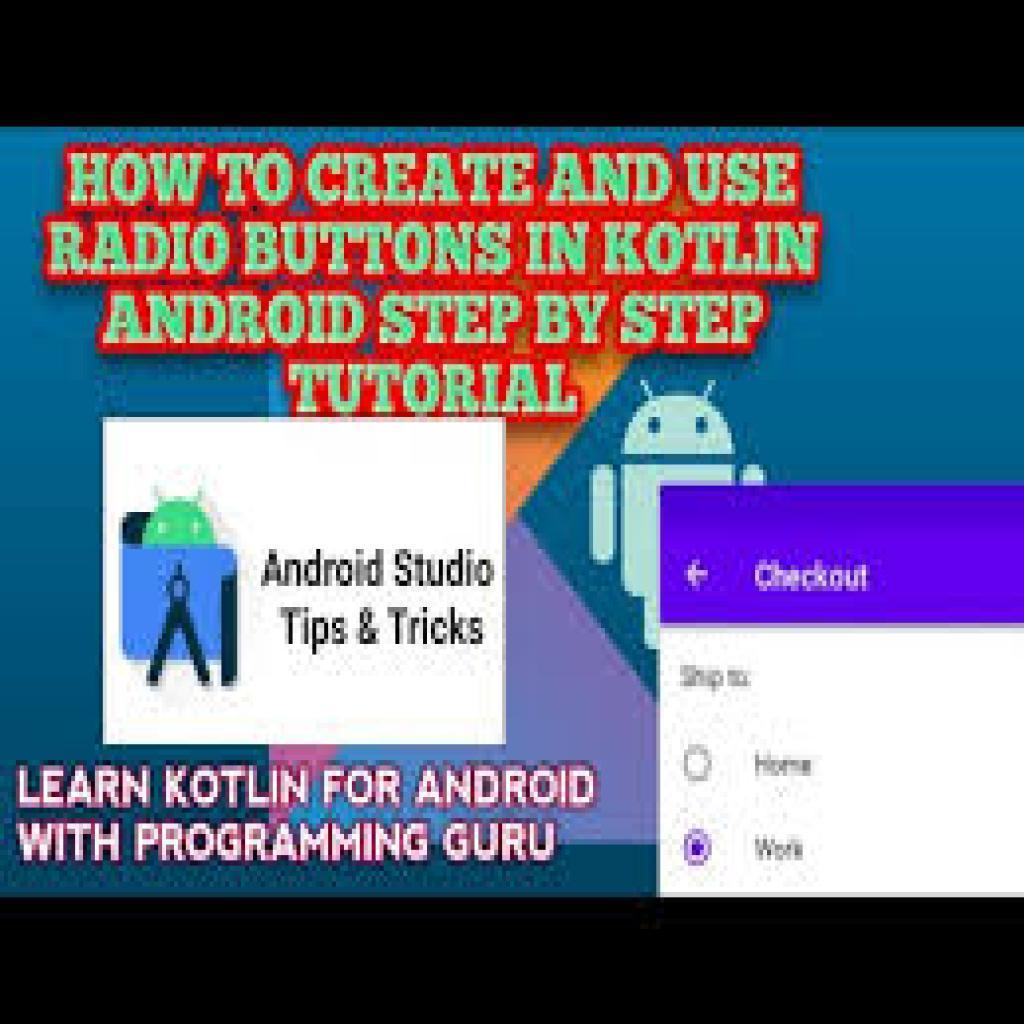radio: (677, 819, 722, 886), (679, 735, 723, 793)
